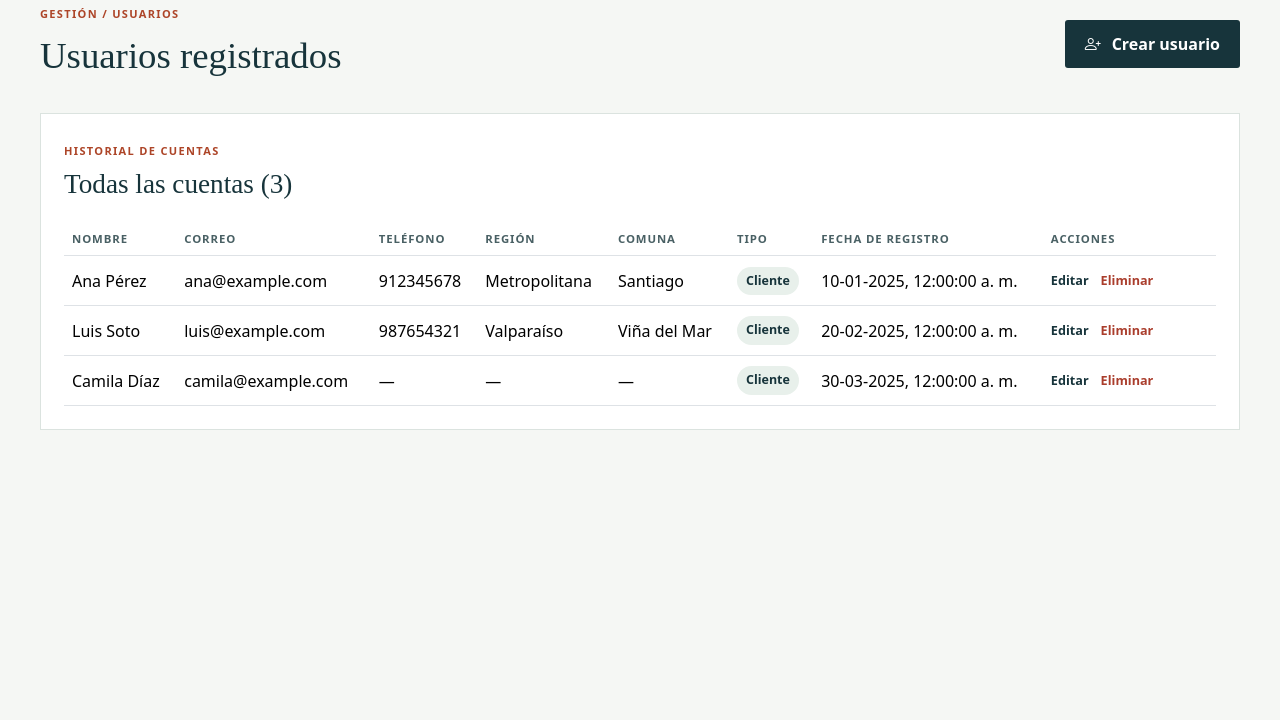
Scenario: AdminUsersPage › edita el perfil y cambia el rol del usuario
Click the button "Editar" in the row of "Ana Pérez" at (1070, 281), box [1051, 264, 1089, 297]
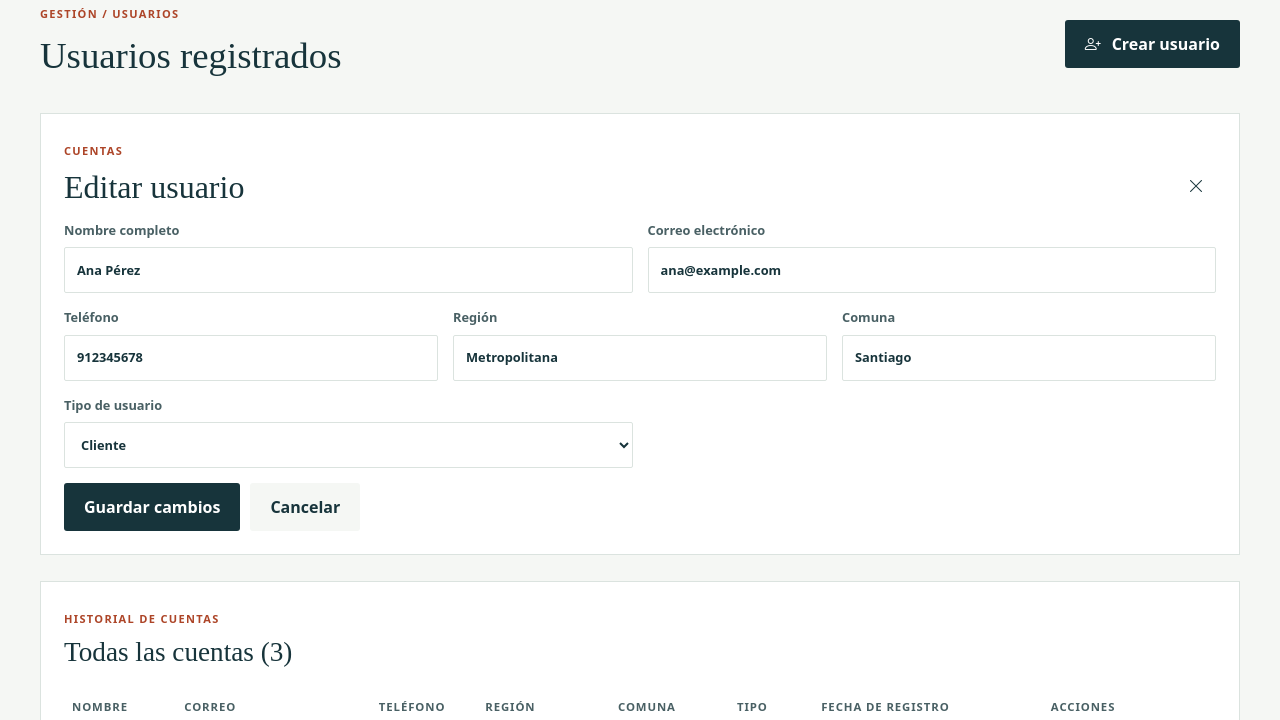
Select "Vendedor" in the dropdown labelled "Tipo de usuario" at (348, 445), box [64, 422, 632, 468]
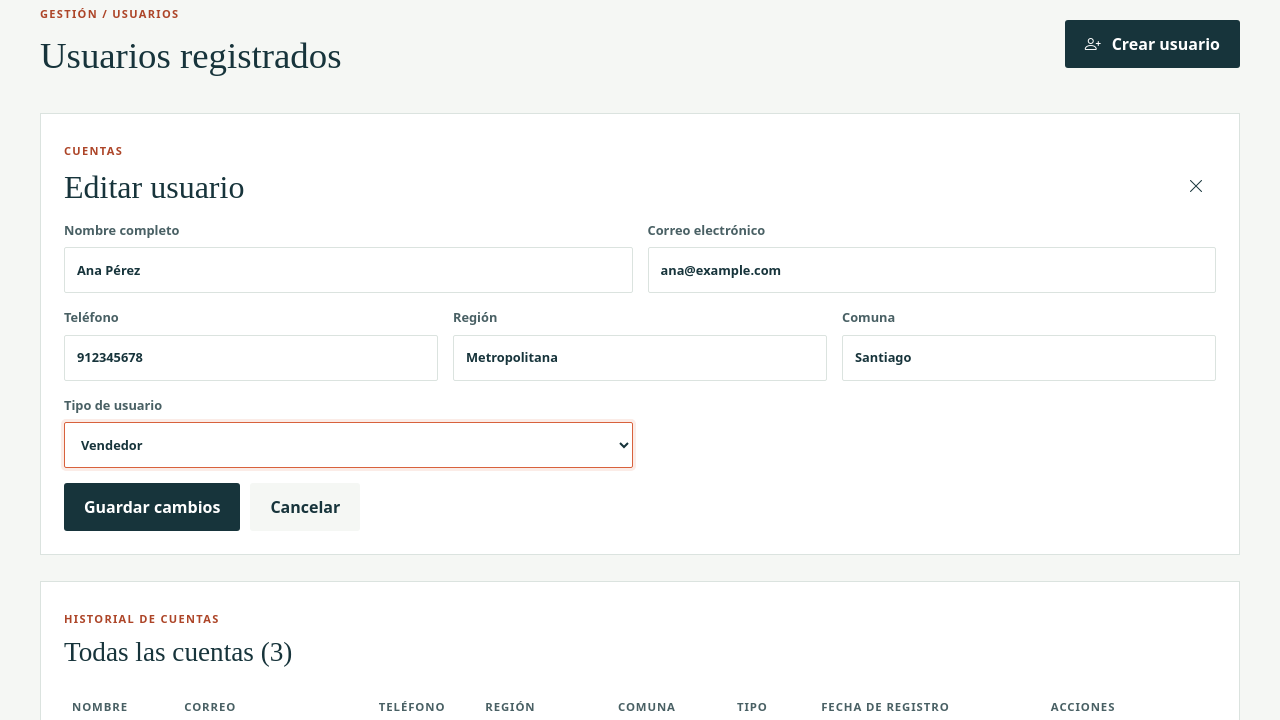
Click the button "Guardar cambios" at (152, 507), box [64, 483, 240, 531]
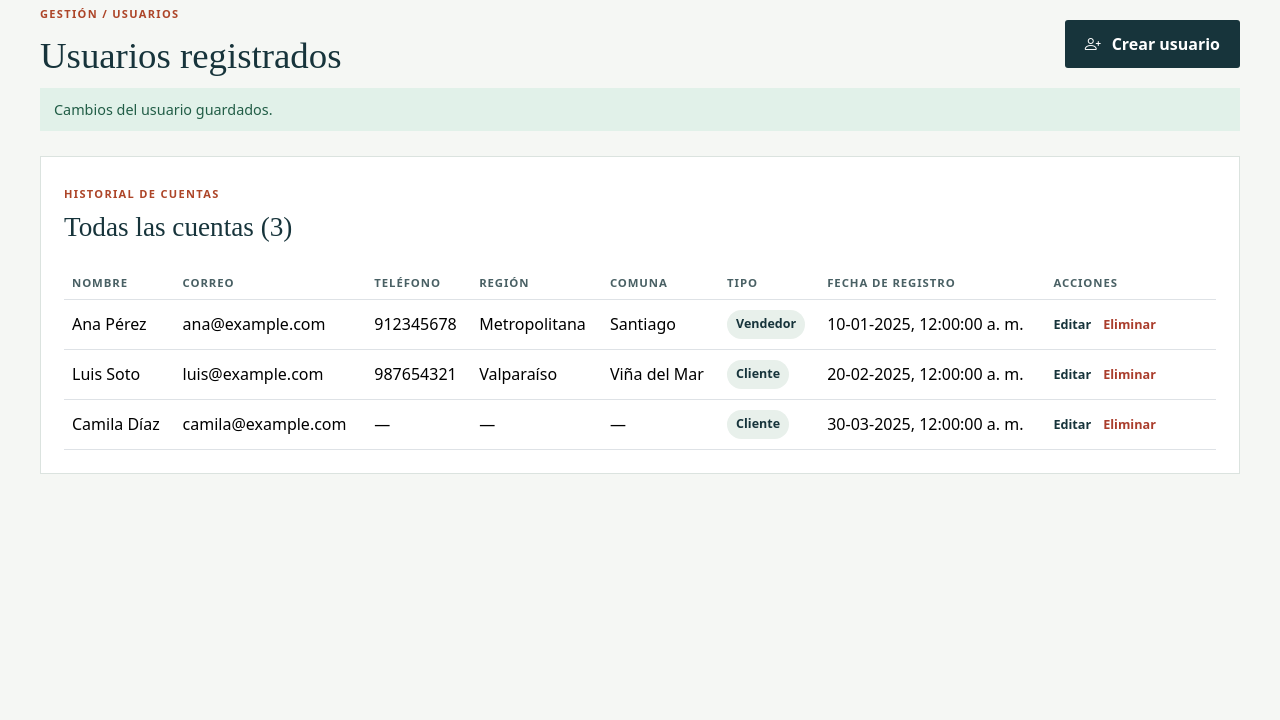
Result: the text "Vendedor" is shown at [727, 310, 805, 339]
